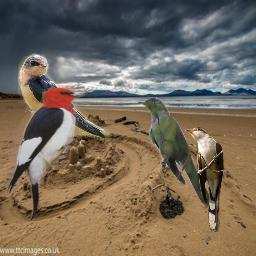Cuckoo: (138, 97, 217, 210), (185, 127, 224, 232)
Swallow: (18, 50, 114, 142)
Woodpecker: (6, 86, 90, 222)
